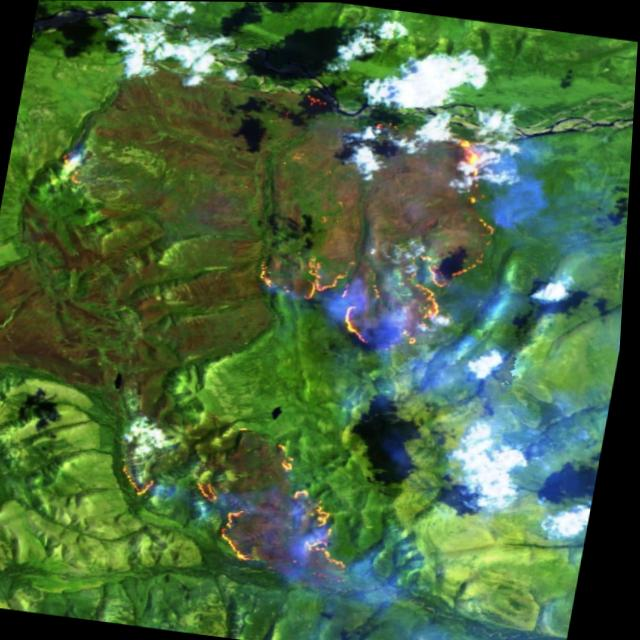fire: (247, 86, 525, 366), (97, 417, 388, 591), (41, 140, 102, 198)
